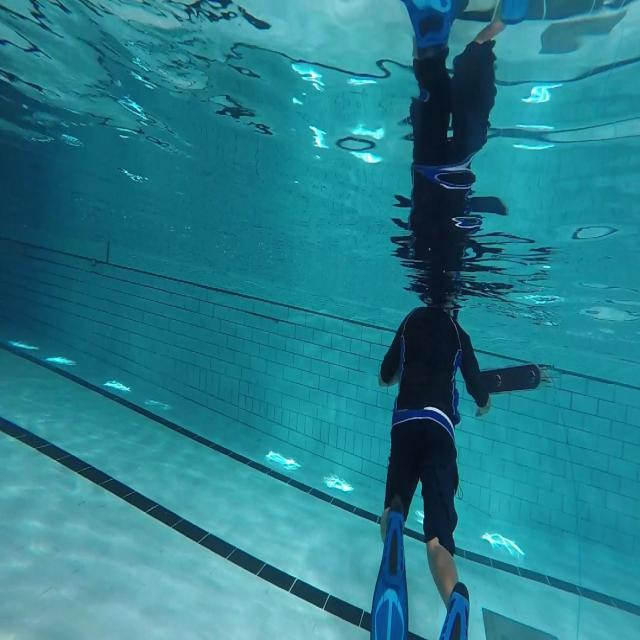human: (371, 292, 546, 638)
